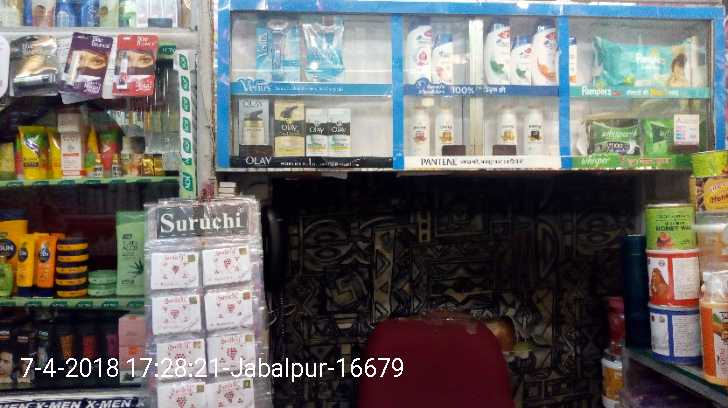venus: (256, 14, 301, 83), (302, 14, 343, 80)
